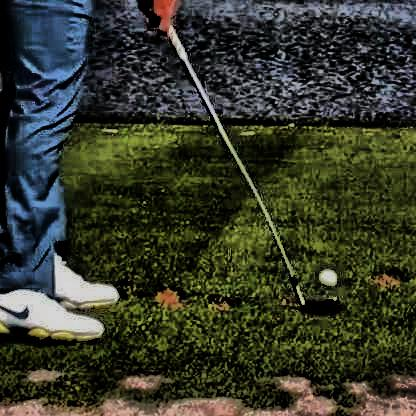golfball: (315, 266, 336, 287)
